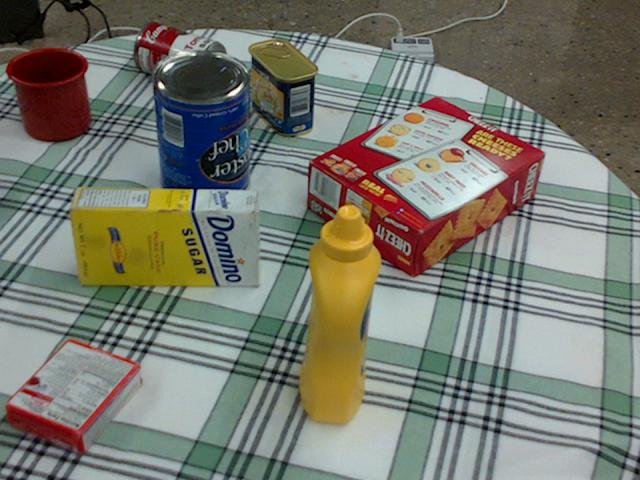cracker_box: (308, 97, 544, 277)
gelatin_box: (5, 337, 140, 452)
master_chef_can: (149, 50, 248, 208)
mug: (7, 46, 91, 138)
mustard_bottle: (300, 204, 381, 421)
potted_meat_can: (247, 39, 317, 135)
sugar_box: (68, 187, 258, 285)
tomato_soup_can: (133, 21, 225, 90)
